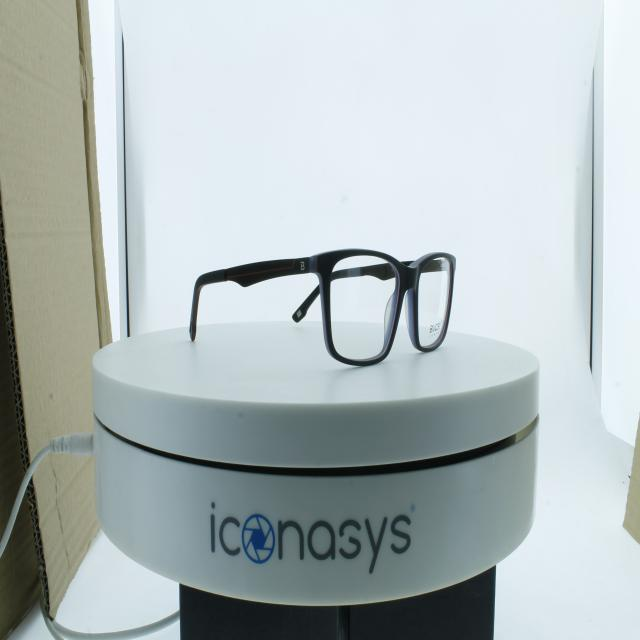Specs: (163, 232, 484, 386)
